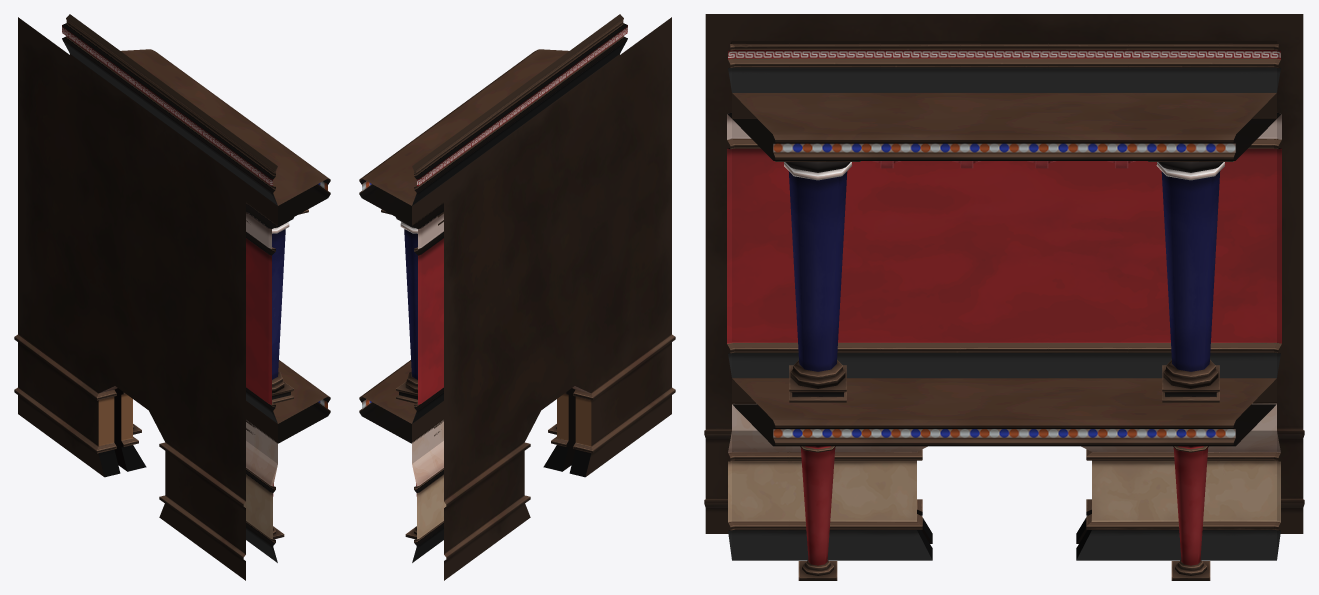
The model's file is em_wall_atrium_section 1.fbx.
3 views of the same model, side by side, from view 1: azimuth 30°, elevation 25°; view 2: azimuth 150°, elevation 25°; view 3: azimuth 270°, elevation 25° (orthographic). The views are drawn at different scales.
Visible parts, largest first — view 1: group225_polySurface487, em_wall_atrium_crossbeam2, em_wall_atrium_crossbeam1, em_column_atrium_medium1; view 2: group225_polySurface487, em_wall_atrium_crossbeam2, em_wall_atrium_crossbeam1, em_column_atrium_medium2; view 3: group225_polySurface487, em_wall_atrium_crossbeam2, em_wall_atrium_crossbeam1, em_column_atrium_medium2, em_column_atrium_medium1, em_column_atrium_short2, em_column_atrium_short1.
Part boxes in pixels (x1,y1,x2,y2): group225_polySurface487: (14, 14, 277, 580); em_wall_atrium_crossbeam2: (121, 49, 330, 225); em_wall_atrium_crossbeam1: (273, 360, 330, 443); em_column_atrium_medium1: (246, 209, 308, 403); group225_polySurface487: (412, 14, 675, 580); em_wall_atrium_crossbeam2: (359, 49, 568, 225); em_wall_atrium_crossbeam1: (359, 360, 416, 443); em_column_atrium_medium2: (381, 209, 443, 403); group225_polySurface487: (704, 14, 1304, 560); em_wall_atrium_crossbeam2: (732, 93, 1276, 160); em_wall_atrium_crossbeam1: (732, 378, 1276, 446); em_column_atrium_medium2: (1148, 161, 1233, 402); em_column_atrium_medium1: (775, 161, 860, 402); em_column_atrium_short2: (1171, 446, 1210, 580); em_column_atrium_short1: (798, 446, 837, 580).
Size of the model in its own units: 6.05 by 20 by 20.94.
